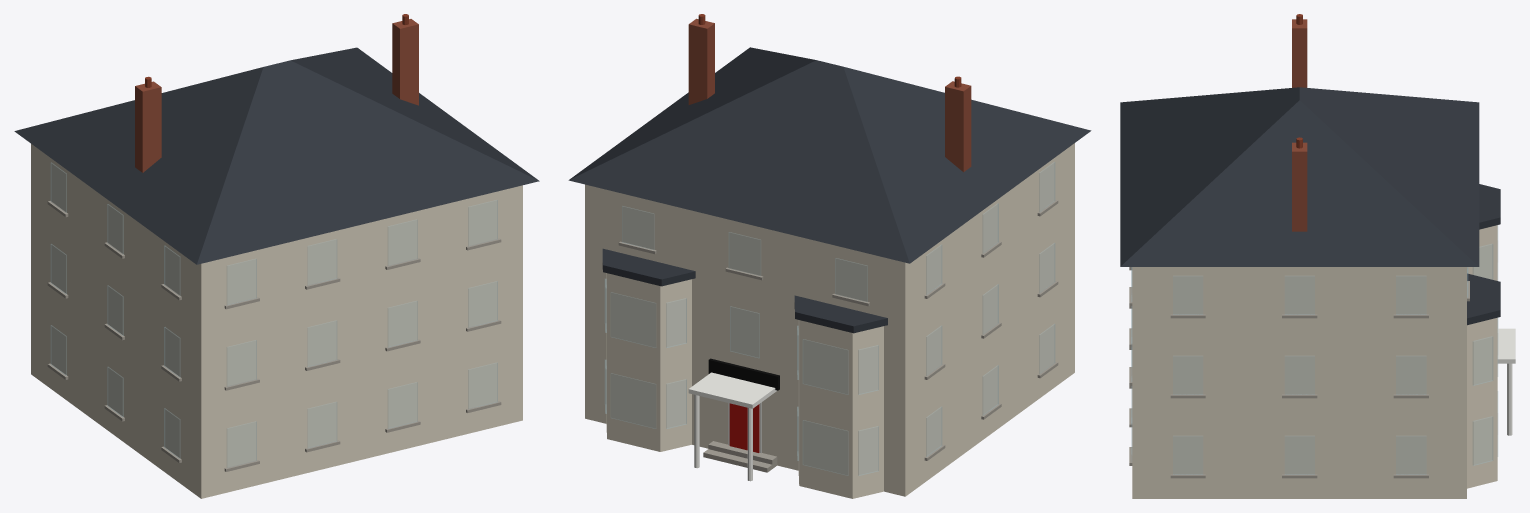
File: context.type.guest_house.glb
3 views of the same model, side by side, from view 1: azimuth 30°, elevation 25°; view 2: azimuth 150°, elevation 25°; view 3: azimuth 270°, elevation 25° (orthographic).
Parts seen in each view (by area): view 1: walls__render, roof__slate, openings__glass, roof__brick, openings__paving; view 2: walls__render, roof__slate, openings__glass, roof__brick, roof__paint_white, openings__paving, walls__paving, openings__plastic_red, openings__plastic_black, walls__paint_white; view 3: walls__render, roof__slate, openings__glass, roof__brick, openings__paving, roof__paint_white, walls__paint_white.
Boxes of the visible parts, left/top/right/bottom form: walls__render: left=31, top=144, right=522, bottom=498; roof__slate: left=14, top=47, right=539, bottom=264; openings__glass: left=51, top=162, right=497, bottom=467; roof__brick: left=135, top=19, right=418, bottom=172; openings__paving: left=47, top=201, right=501, bottom=471; walls__render: left=585, top=143, right=1074, bottom=498; roof__slate: left=568, top=47, right=1091, bottom=333; openings__glass: left=605, top=162, right=1054, bottom=475; roof__brick: left=688, top=18, right=971, bottom=172; roof__paint_white: left=688, top=372, right=776, bottom=408; openings__paving: left=618, top=200, right=1058, bottom=460; walls__paving: left=703, top=441, right=777, bottom=472; openings__plastic_red: left=729, top=403, right=759, bottom=452; openings__plastic_black: left=708, top=358, right=779, bottom=390; walls__paint_white: left=694, top=394, right=752, bottom=481; walls__render: left=1132, top=225, right=1497, bottom=498; roof__slate: left=1120, top=87, right=1500, bottom=325; openings__glass: left=1131, top=244, right=1498, bottom=474; roof__brick: left=1292, top=19, right=1307, bottom=231; openings__paving: left=1129, top=267, right=1469, bottom=478; roof__paint_white: left=1497, top=328, right=1515, bottom=363; walls__paint_white: left=1507, top=363, right=1512, bottom=435.
Size of the model in its own units: 12.8 by 12.54 by 13.
